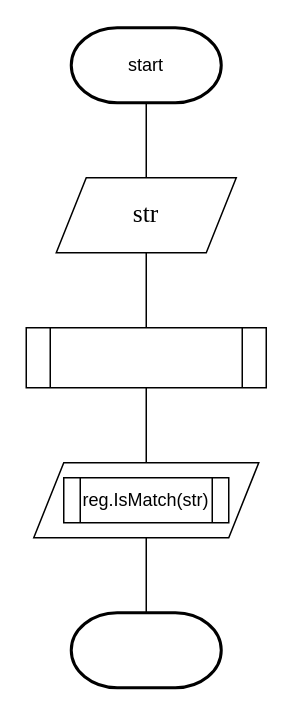
This 293x714 diagram has some shape labels left out. The shapes that lost their labels are listed below. From the top down, each one's centre as x and y in pixels, then its label:
(145,357): Regex reg = new Regex(@"^<\w+>$")
(145,649): end
